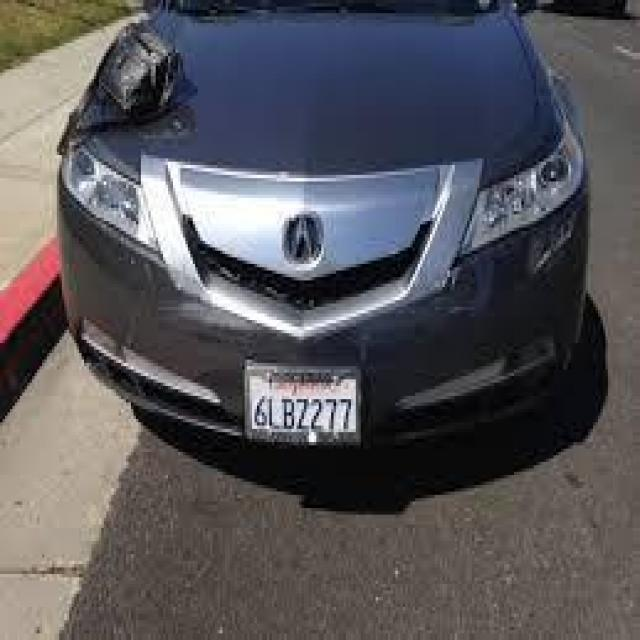damaged: (60, 23, 186, 149)
